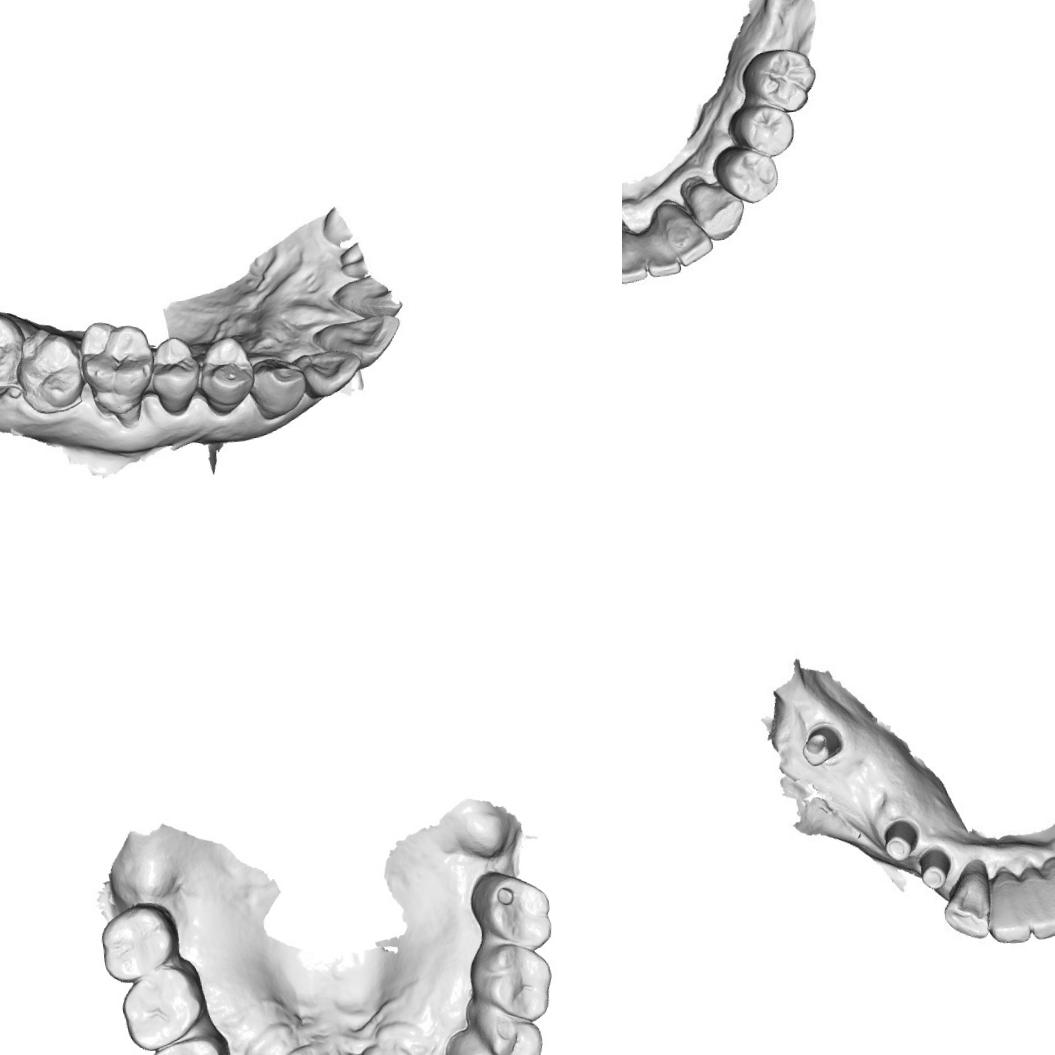abutment: (796, 720, 848, 774), (914, 836, 958, 896), (879, 814, 929, 866)
canine: (935, 860, 996, 943), (680, 172, 748, 244), (256, 355, 307, 414)
incisor: (309, 310, 407, 370), (984, 869, 1034, 943), (301, 341, 359, 399), (1021, 866, 1055, 938), (672, 227, 715, 269), (622, 231, 649, 285), (645, 247, 682, 281)
molar: (116, 956, 210, 1055), (466, 864, 554, 958), (466, 940, 557, 1028), (94, 898, 184, 986), (78, 311, 156, 404), (11, 323, 88, 415), (739, 46, 820, 118), (0, 305, 25, 400)
premolar: (193, 334, 258, 418), (462, 991, 544, 1055), (712, 141, 781, 208), (147, 334, 203, 414), (727, 101, 798, 161), (443, 1028, 528, 1055), (146, 1031, 232, 1055)
